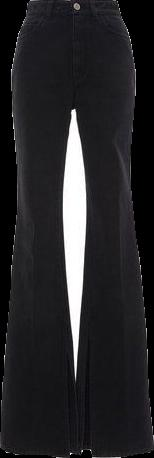Hemline: (77, 440, 153, 457), (0, 445, 79, 457)
Pantleg: (73, 0, 152, 456), (1, 0, 77, 456)
Waistline: (24, 14, 123, 23), (27, 0, 116, 5)
